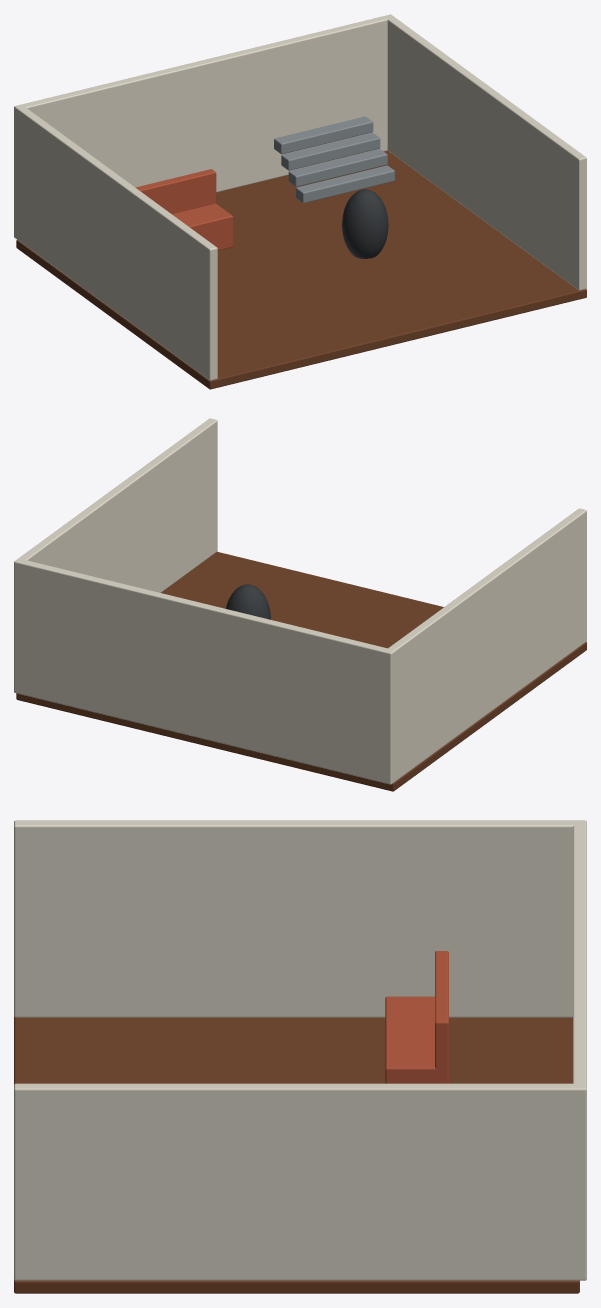
3 views of the same model, one above another, from view 1: azimuth 30°, elevation 25°; view 2: azimuth 150°, elevation 25°; view 3: azimuth 270°, elevation 25° (orthographic). The views are drawn at different scales.
Parts seen in each view (by area): view 1: DemoFloor-col, NorthWall-col, WestWall-col, EastWall-col, PenetrableSculpture, DemoCouchBack, StairTread3, StairTread1, StairTread4, StairTread2, DemoCouch; view 2: NorthWall-col, WestWall-col, EastWall-col, DemoFloor-col, PenetrableSculpture; view 3: EastWall-col, WestWall-col, DemoFloor-col, NorthWall-col, DemoCouch, DemoCouchBack.
Boxes of the visible parts, bbox=[...] form: DemoFloor-col: bbox=[16, 150, 586, 389]; NorthWall-col: bbox=[14, 14, 393, 239]; WestWall-col: bbox=[16, 107, 217, 380]; EastWall-col: bbox=[387, 16, 586, 290]; PenetrableSculpture: bbox=[342, 189, 388, 258]; DemoCouchBack: bbox=[135, 169, 216, 214]; StairTread3: bbox=[281, 133, 380, 170]; StairTread1: bbox=[295, 165, 394, 203]; StairTread4: bbox=[274, 116, 373, 154]; StairTread2: bbox=[288, 149, 387, 186]; DemoCouch: bbox=[172, 203, 233, 250]; NorthWall-col: bbox=[14, 559, 395, 784]; WestWall-col: bbox=[388, 508, 586, 781]; EastWall-col: bbox=[17, 418, 217, 592]; DemoFloor-col: bbox=[16, 551, 586, 791]; PenetrableSculpture: bbox=[226, 584, 270, 619]; EastWall-col: bbox=[14, 1083, 577, 1280]; WestWall-col: bbox=[14, 820, 577, 1017]; DemoFloor-col: bbox=[14, 1016, 579, 1293]; NorthWall-col: bbox=[573, 820, 586, 1280]; DemoCouch: bbox=[385, 996, 448, 1083]; DemoCouchBack: bbox=[435, 951, 448, 1080].
Size of what is drawn, in the model's own units: 9 by 3.2 by 8.1.
